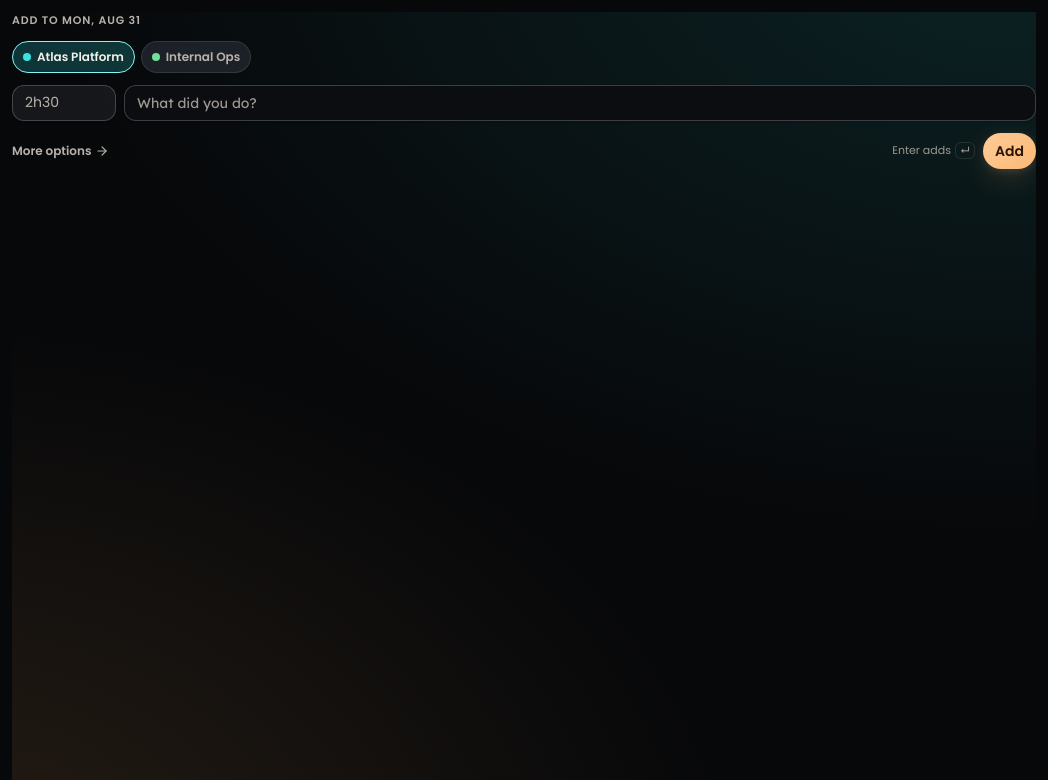
Test: QuickEntryComposer › refuses an unreadable duration and an empty description, and says why
Type "a while" into the field named "Duration" at (64, 102), box [12,84,116,120]
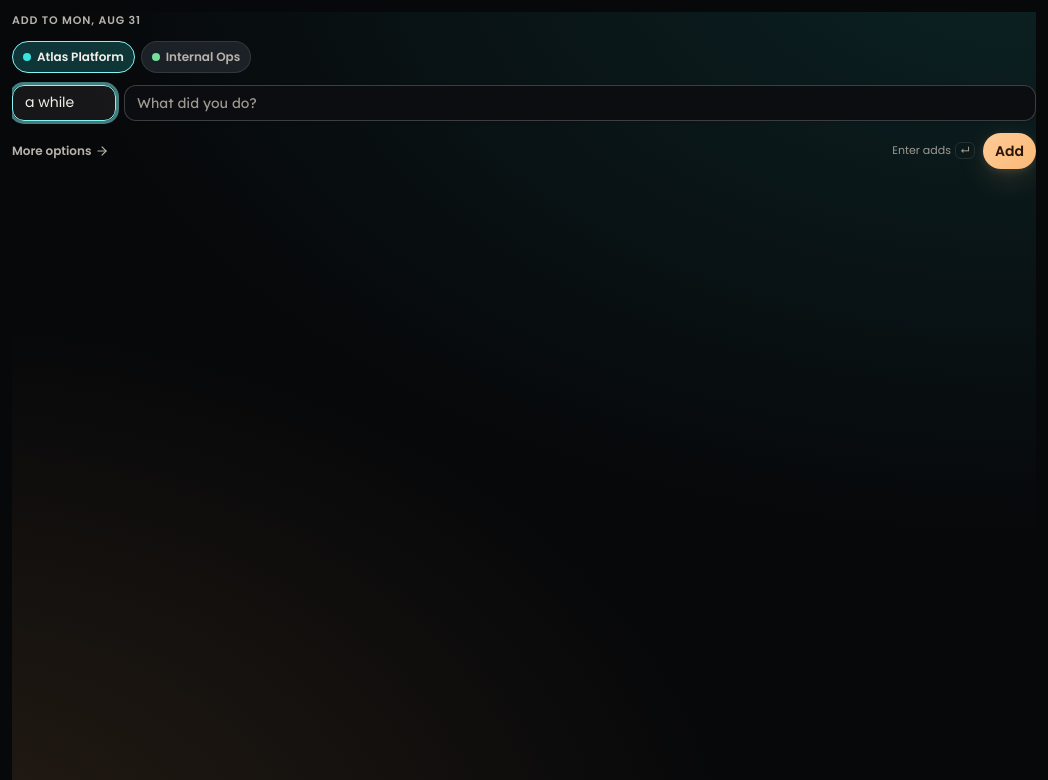
Click the button "Add" at (1010, 150), box [983,132,1036,168]
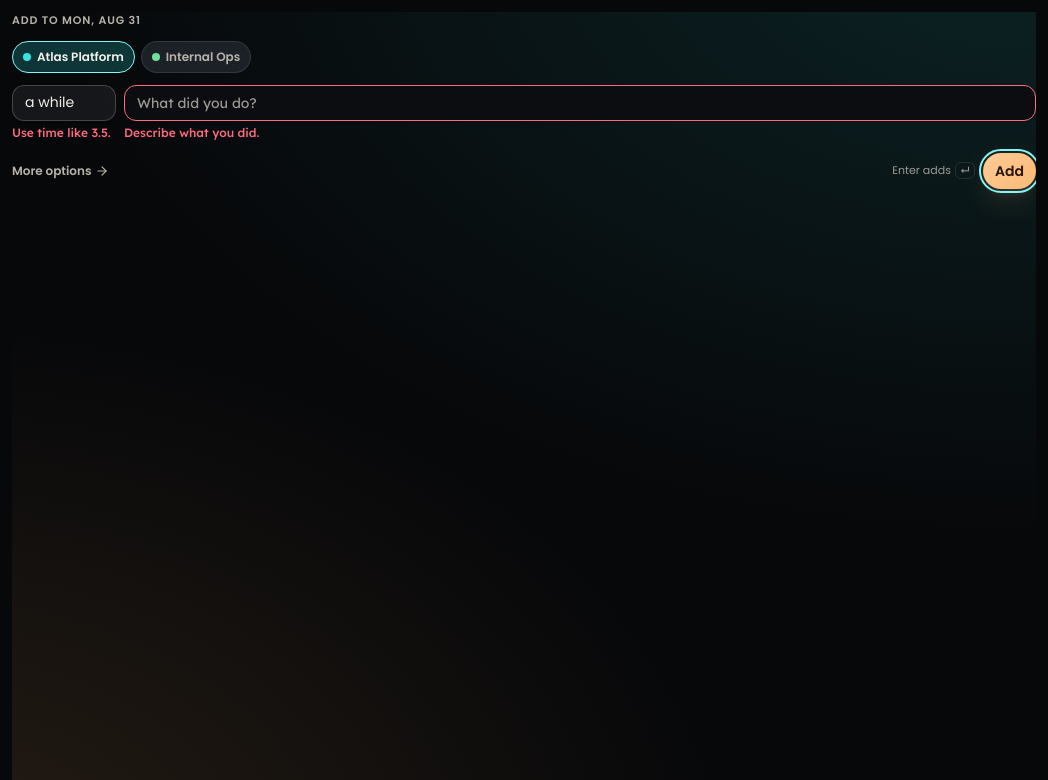
Check: the text "Use time like 3.5." is shown, box [12,124,116,140]
Check: the text "Describe what you did." is shown, box [124,124,259,140]
